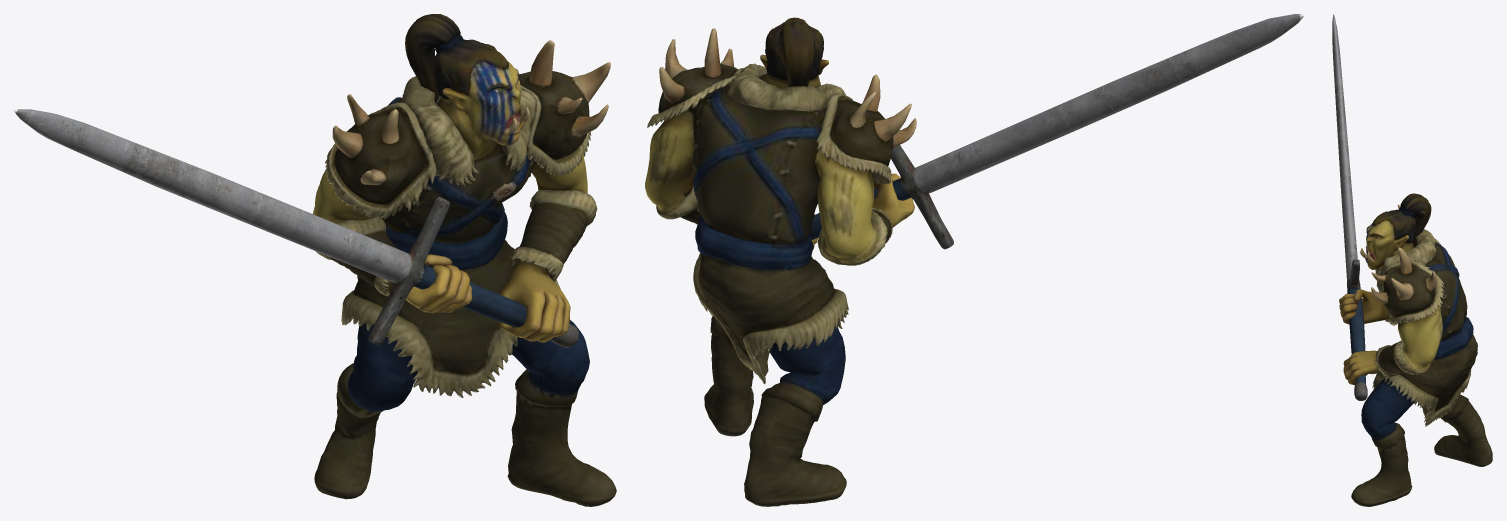
The model's file is MZ4250 - Orc Male Warrior_blue_greatsword.glb.
3 views of the same model, side by side, from view 1: azimuth 30°, elevation 25°; view 2: azimuth 150°, elevation 25°; view 3: azimuth 270°, elevation 25° (orthographic). The views are drawn at different scales.
Visible parts, largest first — view 1: Greatsword.001; view 2: Greatsword.001; view 3: Greatsword.001.
Part boxes in pixels (x1,y1,x2,y2): Greatsword.001: [14, 14, 616, 506]; Greatsword.001: [645, 14, 1303, 506]; Greatsword.001: [1332, 14, 1492, 506].
Bounding box in the file's own units: 54.99 × 45.32 × 20.62.
Materials: 2 (2 with a texture image).
